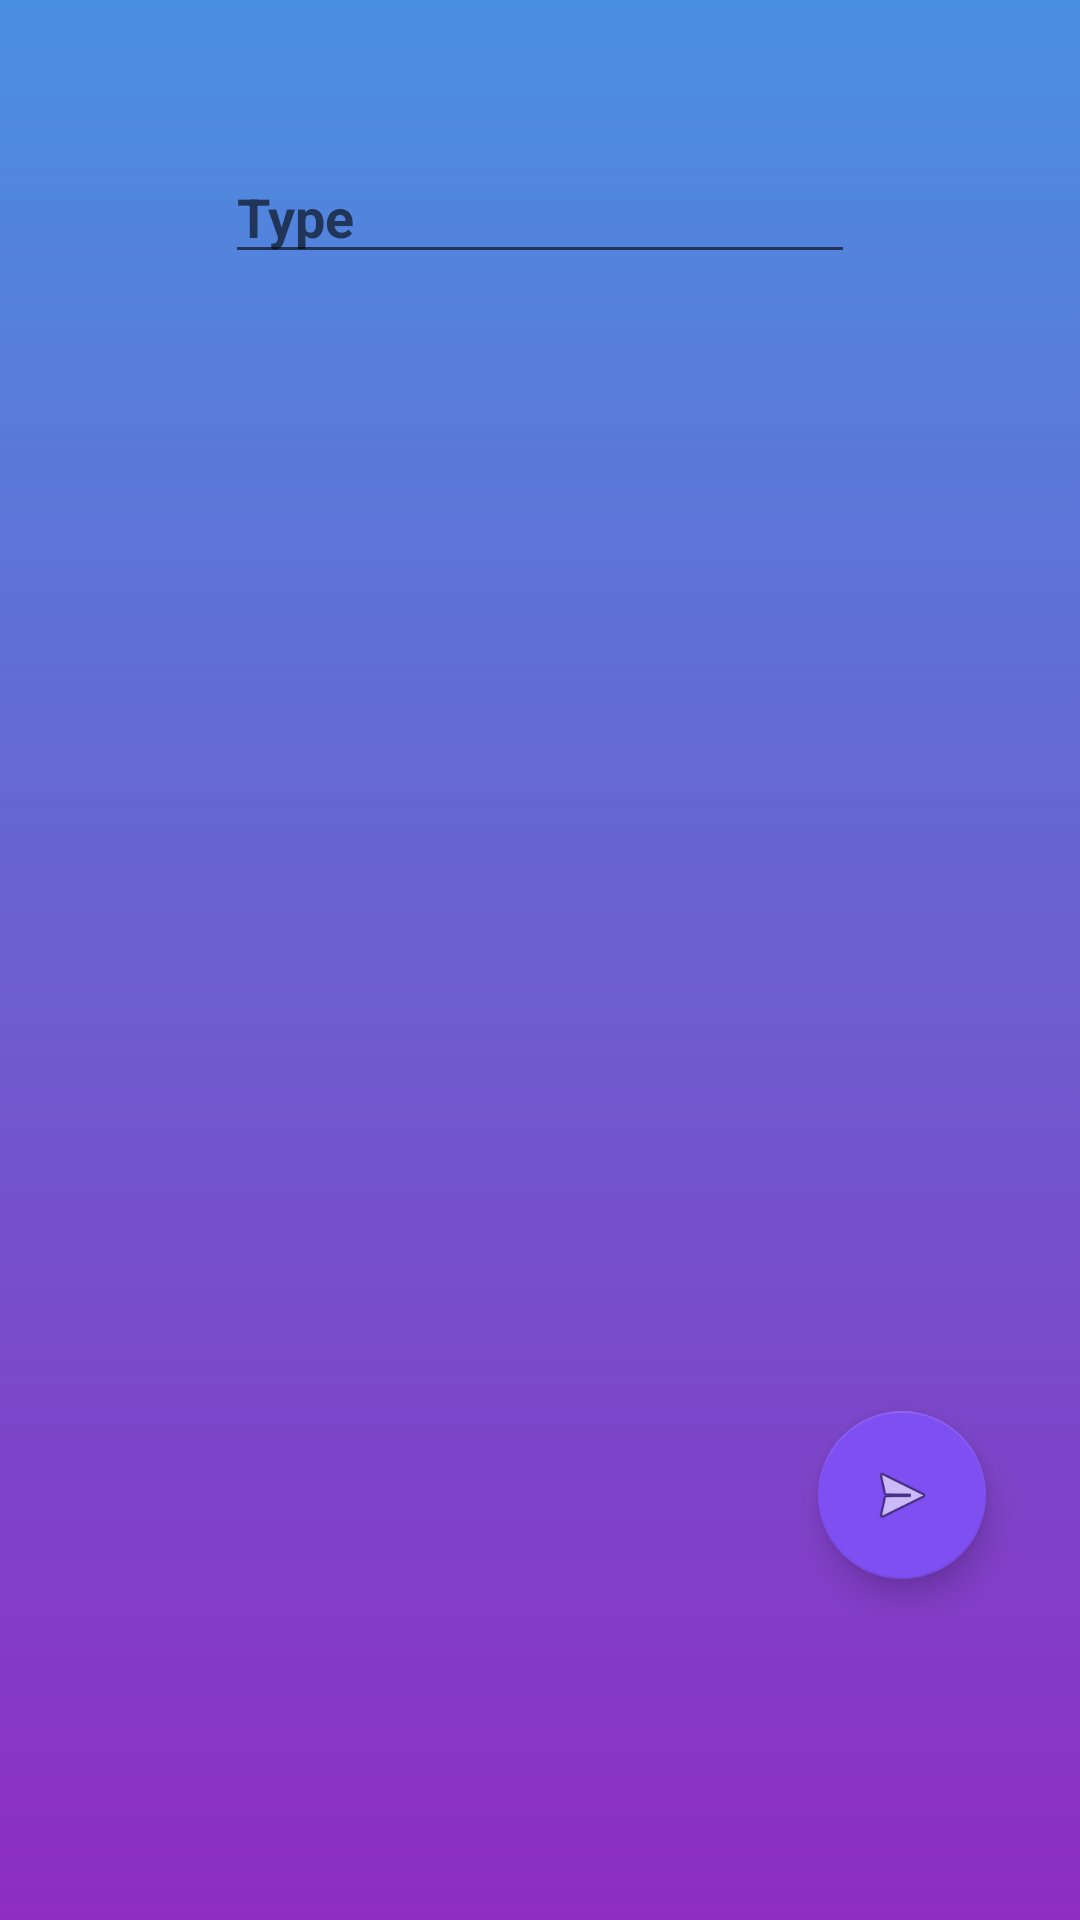

Screen size 1080 x 1920. Icon name, then its box in pixels as [x1,y1,x2,y2]:
send: [818,1411,986,1579]
